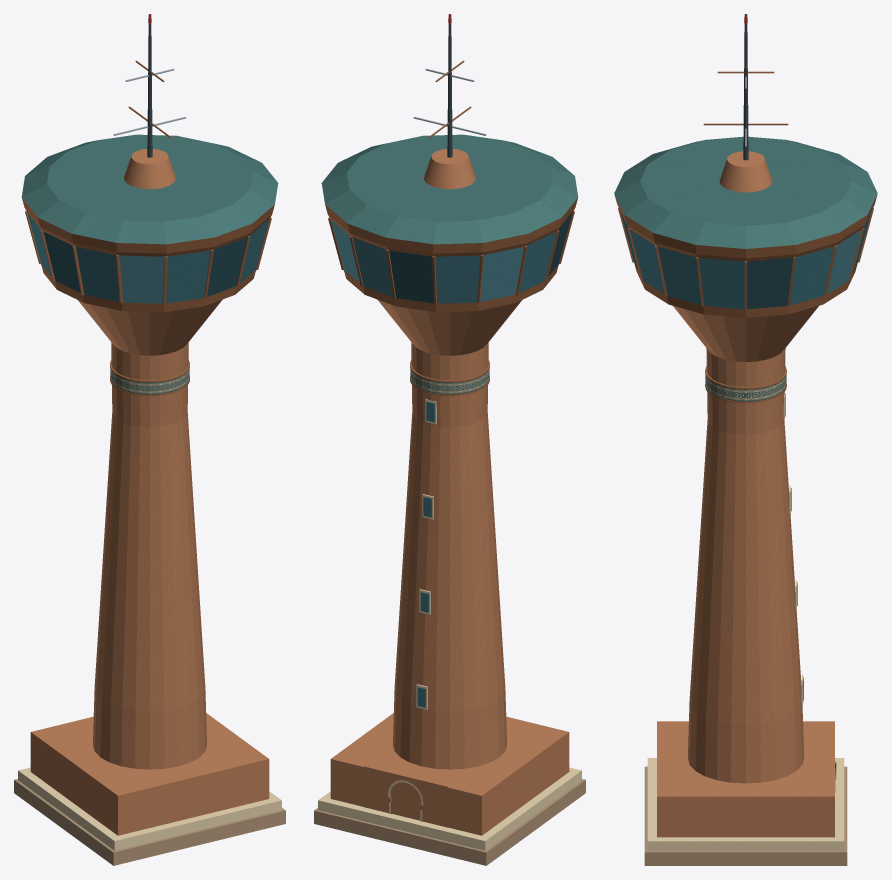
Rendered from tower_small.glb.
3 views of the same model, side by side, from view 1: azimuth 30°, elevation 25°; view 2: azimuth 150°, elevation 25°; view 3: azimuth 270°, elevation 25° (orthographic).
Visible parts, largest first — view 1: tower_small; view 2: tower_small; view 3: tower_small.
Boxes of the visible parts, x1,y1,x2,y2 form: tower_small: [14, 14, 285, 865]; tower_small: [314, 14, 585, 865]; tower_small: [614, 14, 877, 865].
Size of the model in its own units: 13 by 44 by 13.
Materials: 13 (13 with a texture image).
